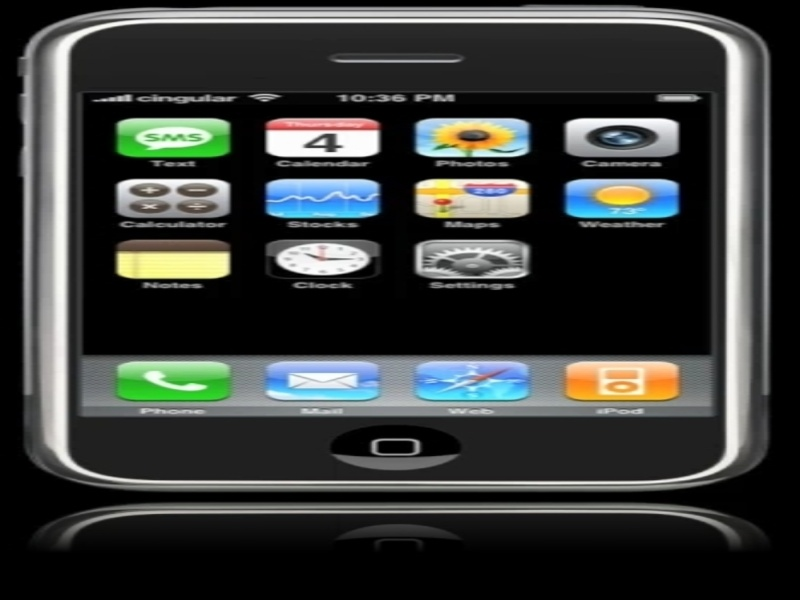cellphone: (17, 6, 772, 501)
